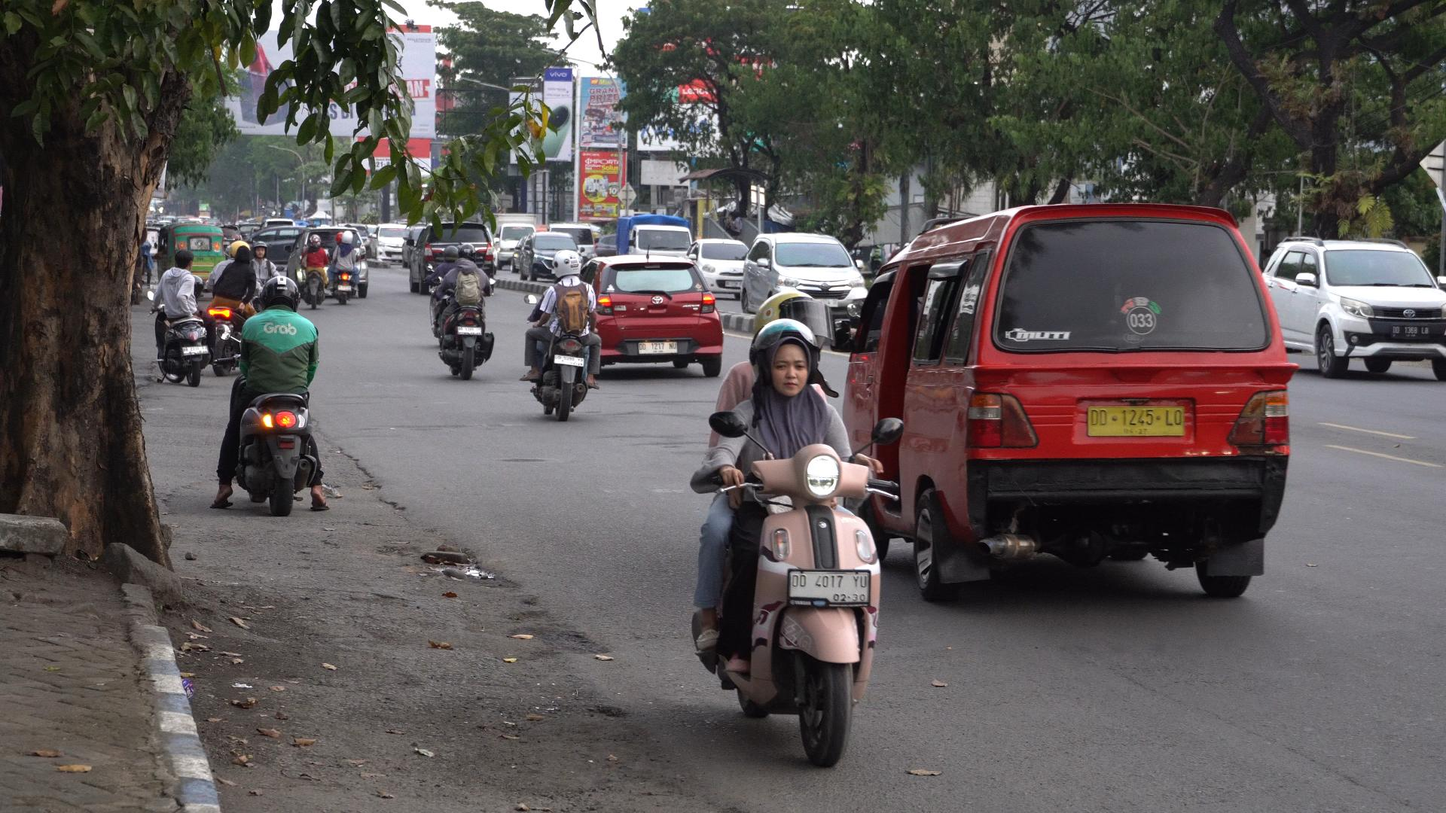number-plate: (788, 565, 871, 608)
